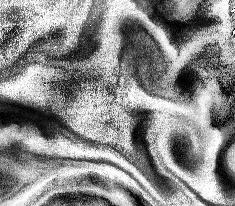AE: (144, 107, 220, 190)
